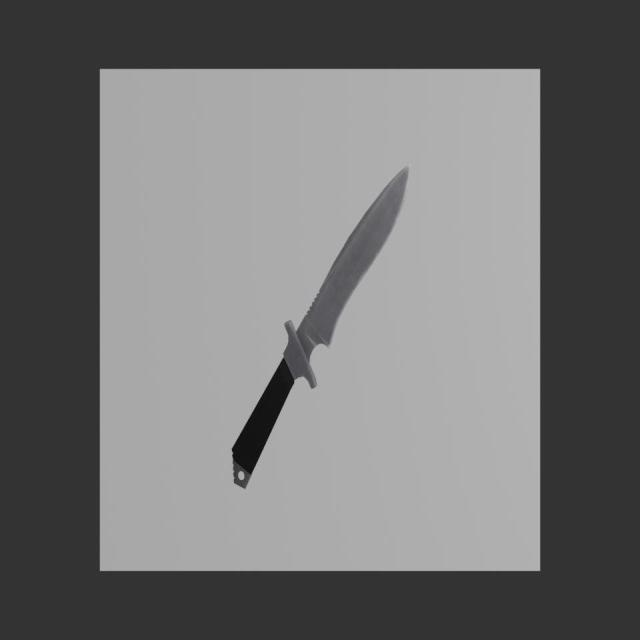knife: (232, 357, 294, 489)
